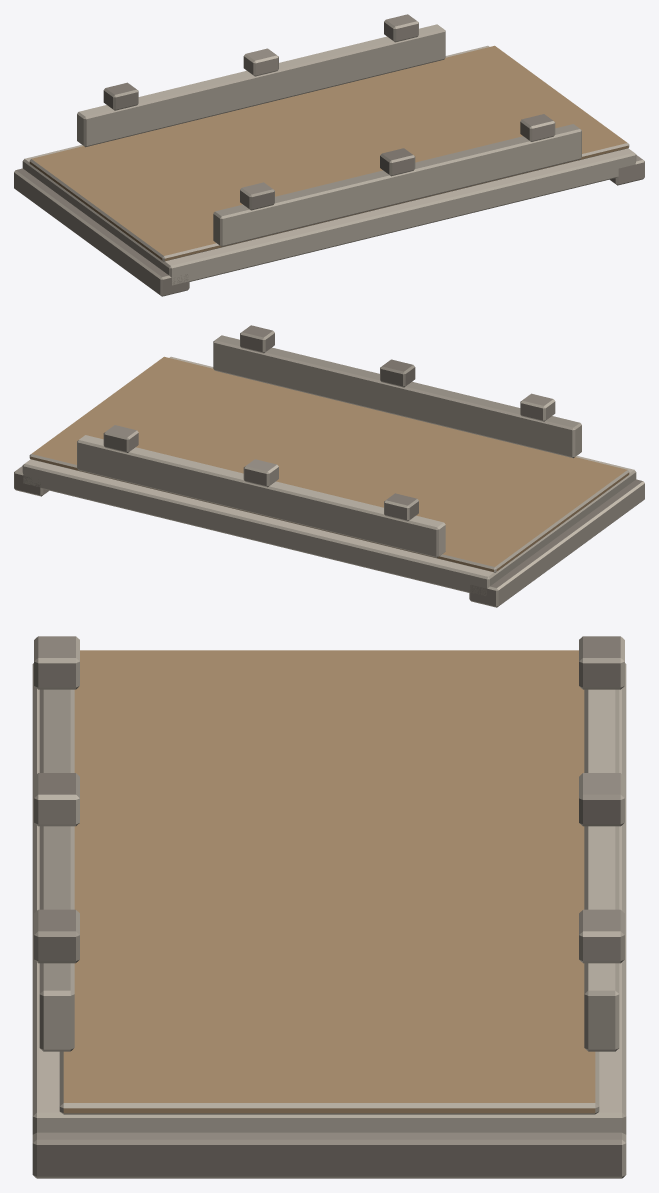
File: SM_Kit_ponte.fbx
3 renders of one model, top to bottom at view 1: azimuth 30°, elevation 25°; view 2: azimuth 150°, elevation 25°; view 3: azimuth 270°, elevation 25°, orthographic. The views are drawn at different scales.
Visible parts, largest first — view 1: SM_Kit_ponte; view 2: SM_Kit_ponte; view 3: SM_Kit_ponte.
Part boxes in pixels (bbox=[...]): SM_Kit_ponte: bbox=[14, 14, 644, 296]; SM_Kit_ponte: bbox=[14, 325, 644, 607]; SM_Kit_ponte: bbox=[32, 636, 626, 1178].
Size of what is drawn, in the model's own units: 830 by 131 by 440.
